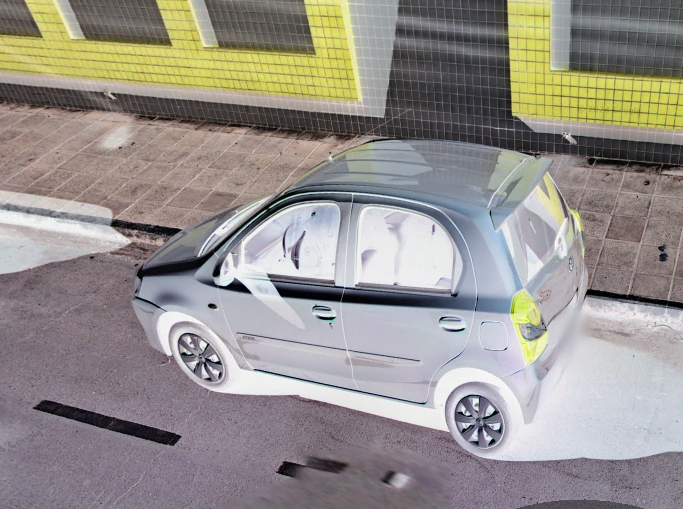car: (130, 108, 590, 460)
